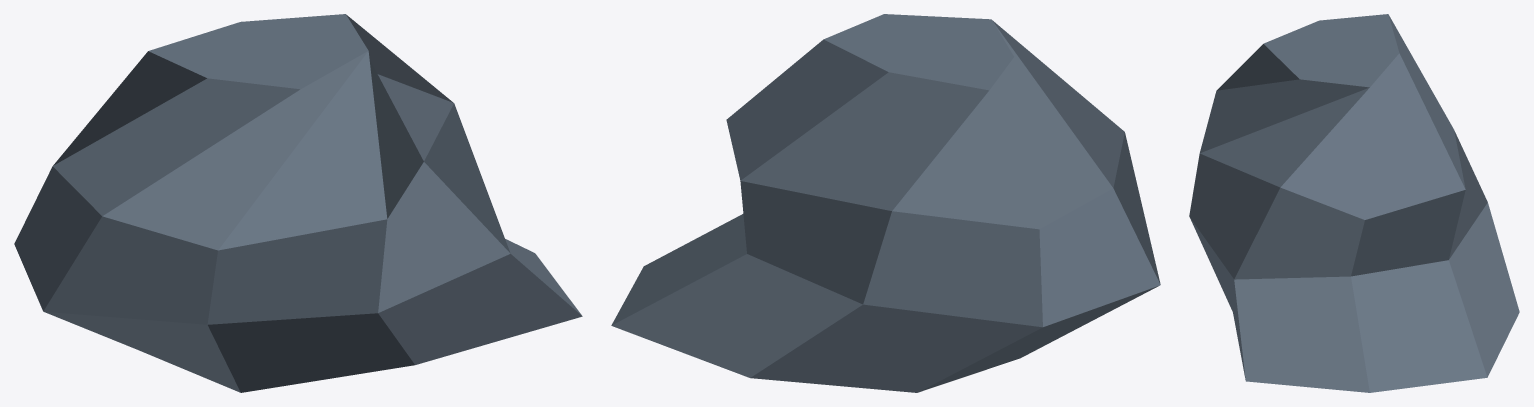
The model's file is ROCK_Glacial_01_LargeCliff.fbx.
The picture shows the model from 3 angles, left to right: view 1: azimuth 30°, elevation 25°; view 2: azimuth 150°, elevation 25°; view 3: azimuth 270°, elevation 25°; orthographic projection. The views are drawn at different scales.
Parts seen in each view (by area): view 1: ROCK_Glacial_01_LargeCliff; view 2: ROCK_Glacial_01_LargeCliff; view 3: ROCK_Glacial_01_LargeCliff.
Part boxes in pixels (bbox=[...]): ROCK_Glacial_01_LargeCliff: bbox=[14, 14, 582, 392]; ROCK_Glacial_01_LargeCliff: bbox=[611, 14, 1160, 392]; ROCK_Glacial_01_LargeCliff: bbox=[1189, 14, 1519, 392].
Bounding box in the file's own units: 417 × 219 × 285.
